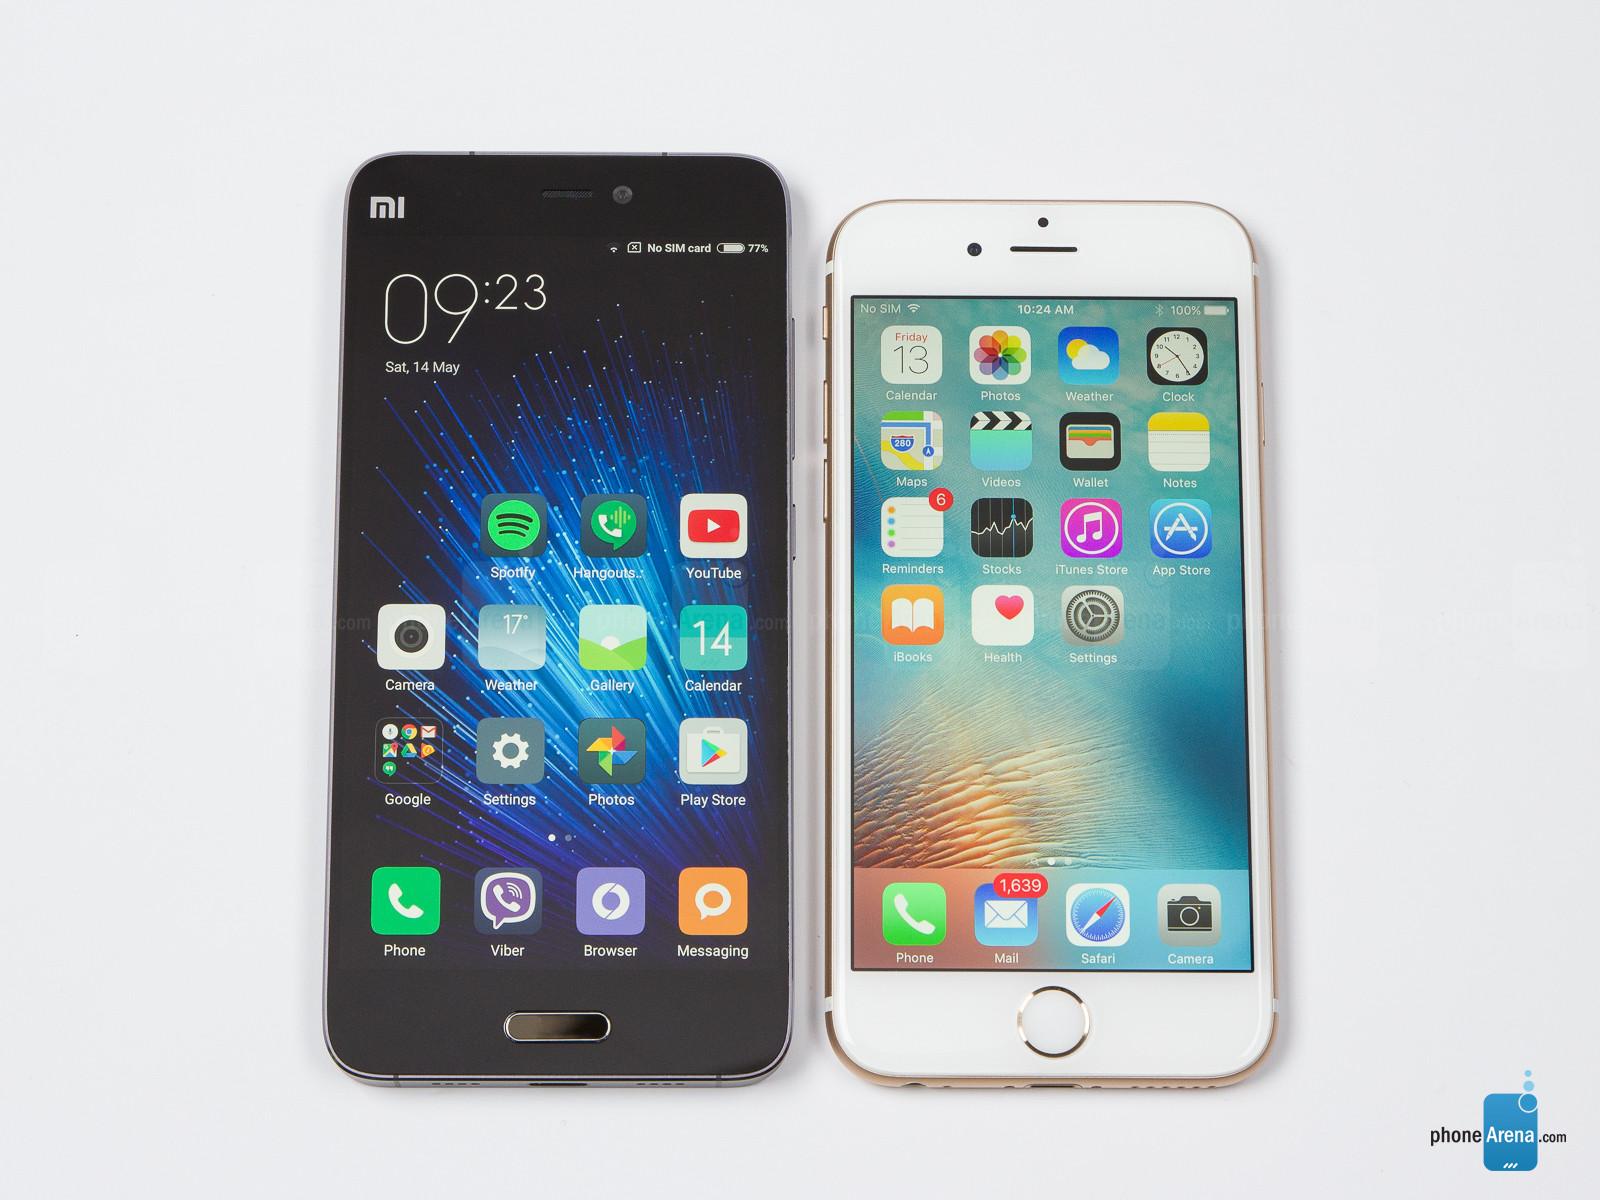smartphone: (321, 150, 796, 1088), (821, 198, 1281, 1090)
